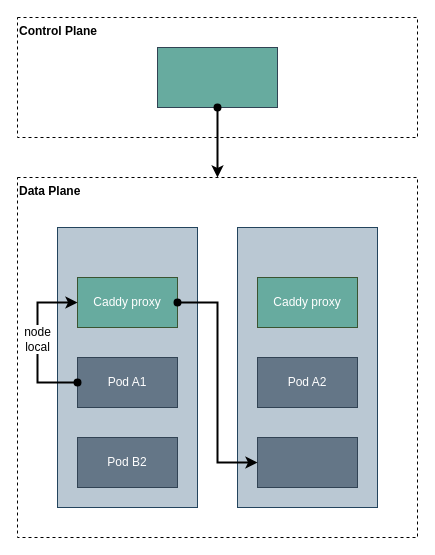
This 435x555 diagram has some shape labels left out. Each missing label, with the box of its shape:
Caddy Mesh controller: (156, 46, 278, 108)
Node 1: (56, 226, 198, 508)
Node 2: (236, 226, 378, 508)
Pod B1: (256, 436, 358, 488)
